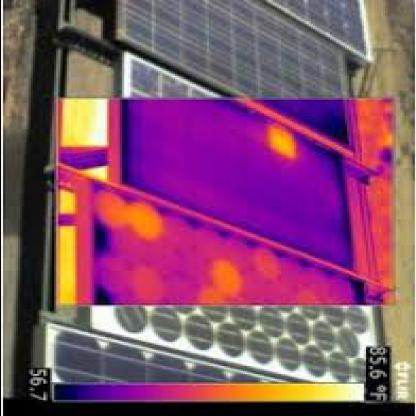Defects: (268, 129, 288, 150)
